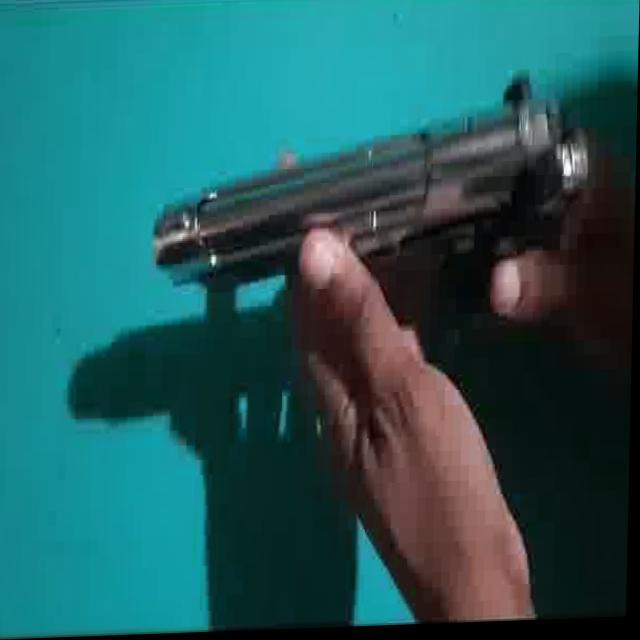weapon: (152, 72, 594, 298)
